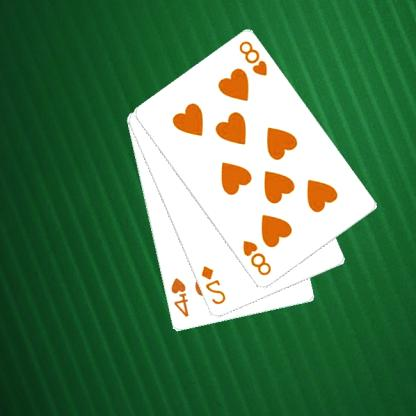2D: (200, 263, 229, 307)
4H: (170, 275, 192, 319)
8H: (241, 238, 275, 278), (237, 38, 271, 78)
